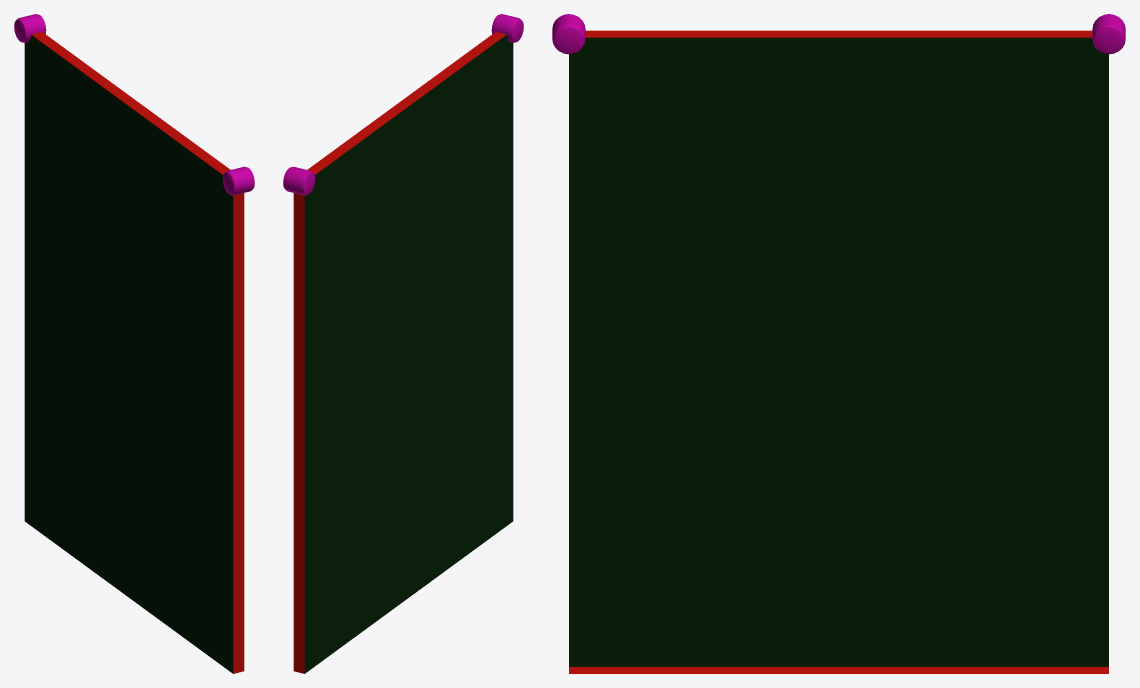
Rendered from SM_Affiche.fbx.
The picture shows the model from 3 angles, left to right: view 1: azimuth 30°, elevation 25°; view 2: azimuth 150°, elevation 25°; view 3: azimuth 270°, elevation 25°; orthographic projection. The views are drawn at different scales.
Visible parts, largest first — view 1: SM_Affiche_drapeaux_001; view 2: SM_Affiche_drapeaux_001; view 3: SM_Affiche_drapeaux_001.
Boxes of the visible parts, x1,y1,x2,y2 form: SM_Affiche_drapeaux_001: (14,14,254,673); SM_Affiche_drapeaux_001: (283,14,523,673); SM_Affiche_drapeaux_001: (552,14,1125,673).
Size of the model in its own units: 2 by 43.16 by 34.43.
